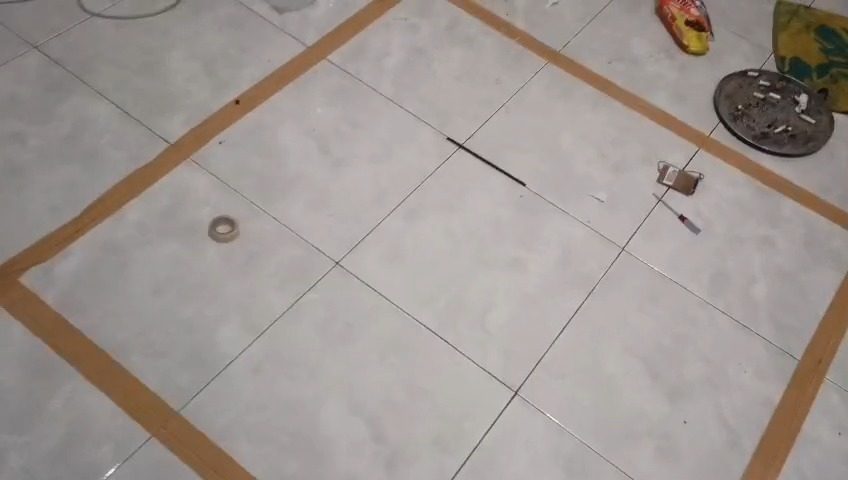floor marking: (0, 0, 399, 479), (451, 0, 847, 230), (742, 273, 847, 479)
